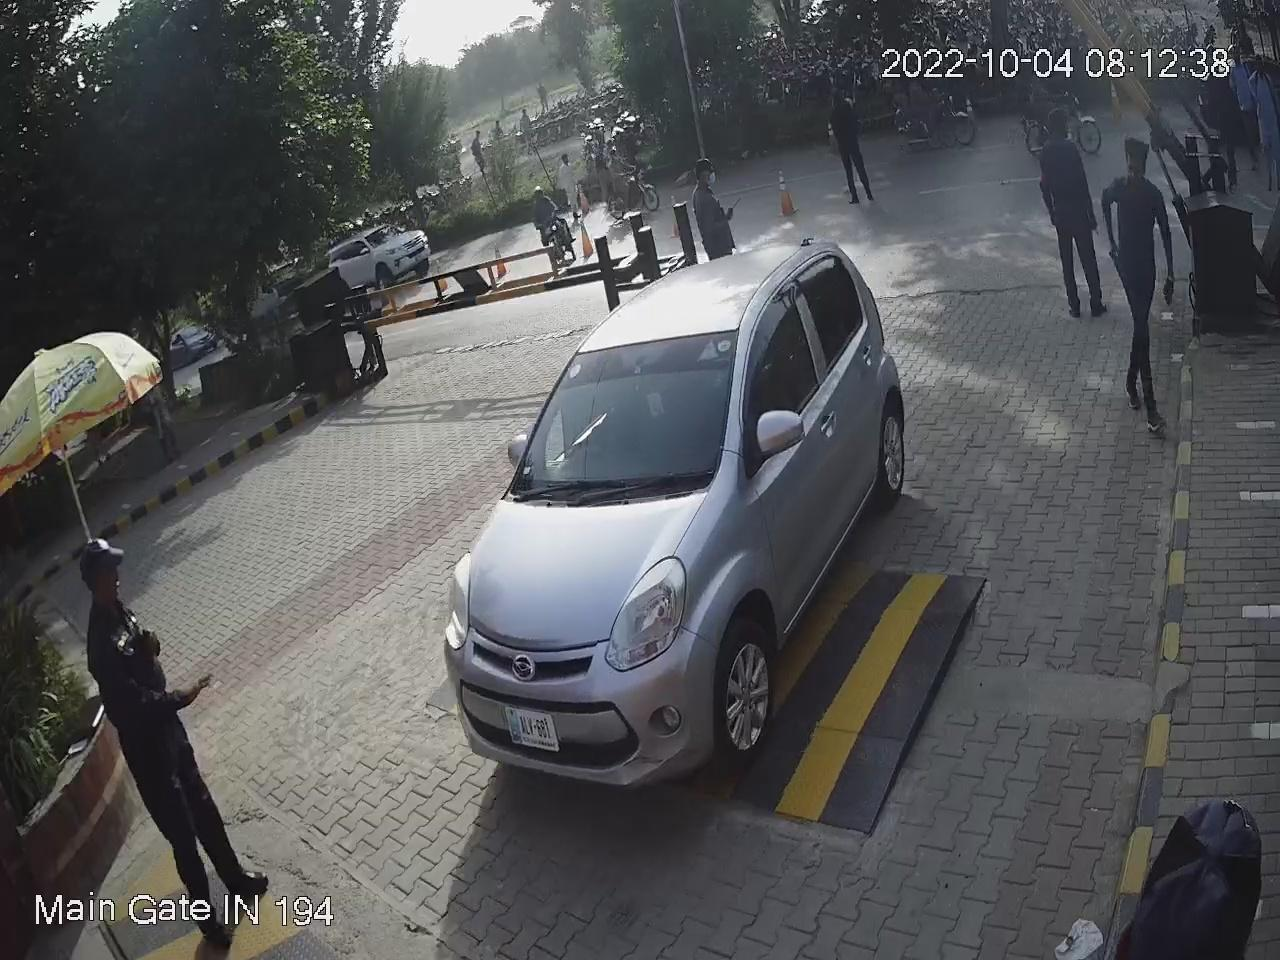windshield: (501, 320, 749, 500)
